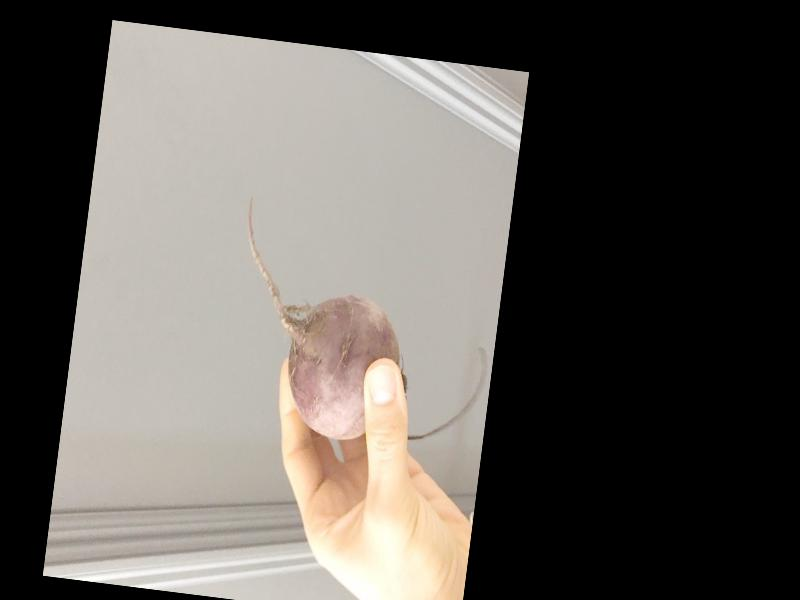Beet: (222, 194, 505, 455)
